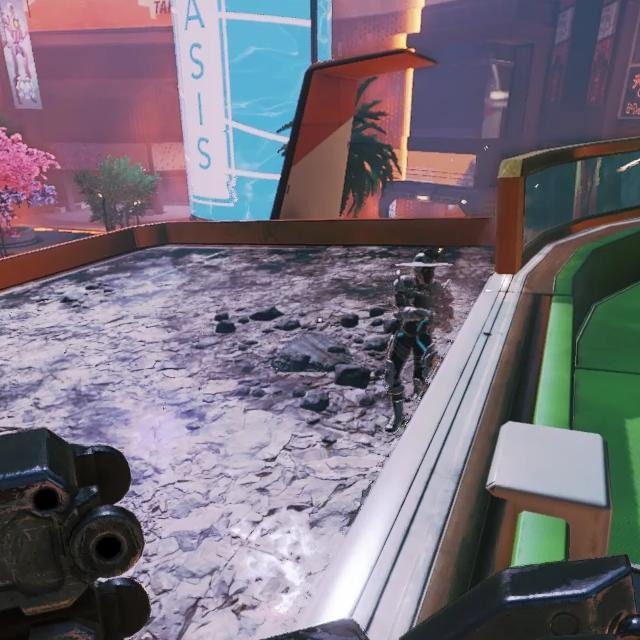avatar: (379, 251, 441, 434)
